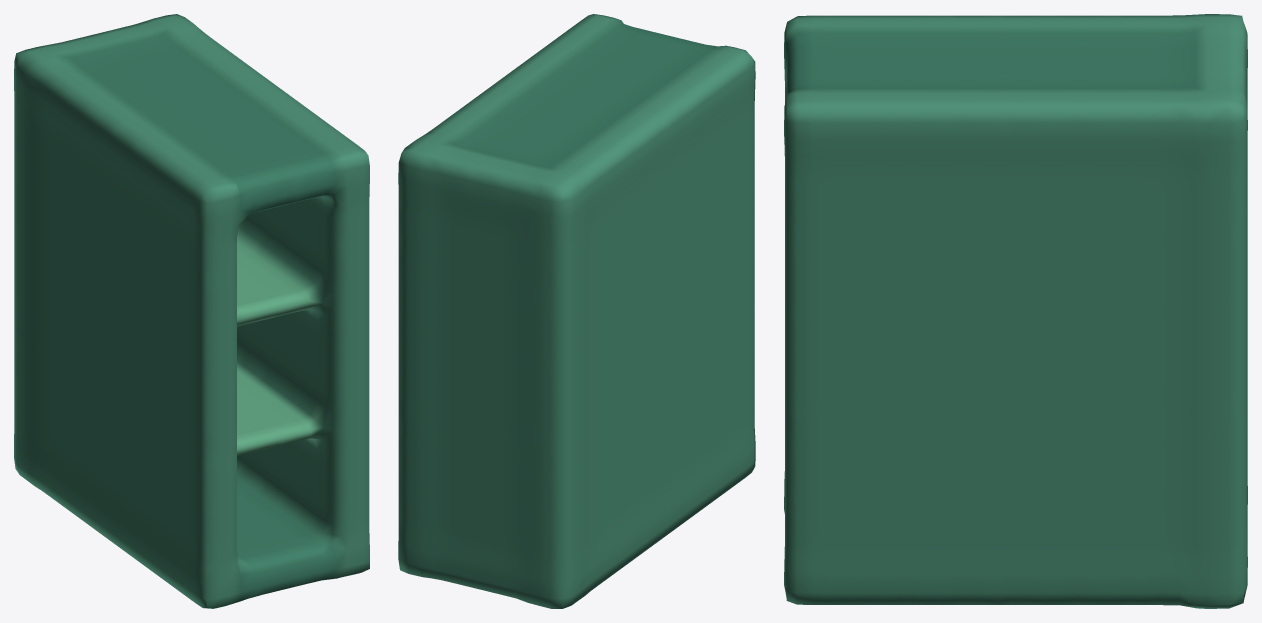
Rendered from locker.glb.
3 views of the same model, side by side, from view 1: azimuth 30°, elevation 25°; view 2: azimuth 150°, elevation 25°; view 3: azimuth 270°, elevation 25° (orthographic). The views are drawn at different scales.
Parts seen in each view (by area): view 1: locker; view 2: locker; view 3: locker.
Boxes of the visible parts, x1,y1,x2,y2 form: locker: [14, 14, 369, 608]; locker: [398, 14, 755, 608]; locker: [784, 14, 1247, 608].
Bounding box in the file's own units: 0.6139 × 1.45 × 1.21.
